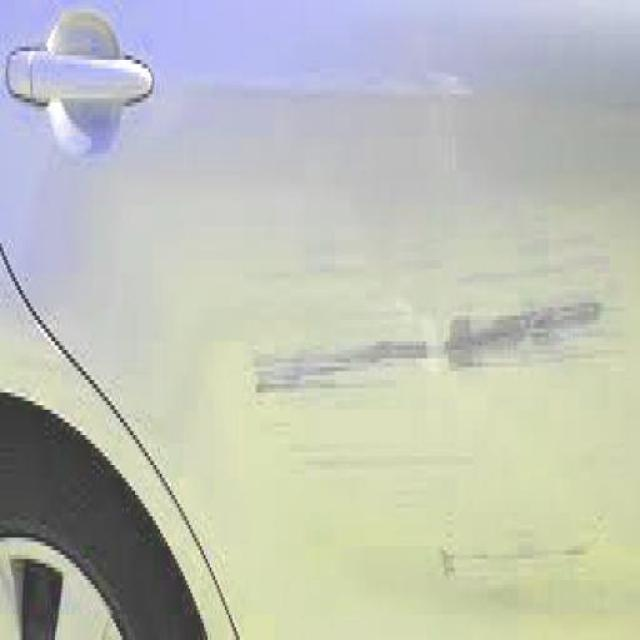car damage: (240, 162, 630, 597)
